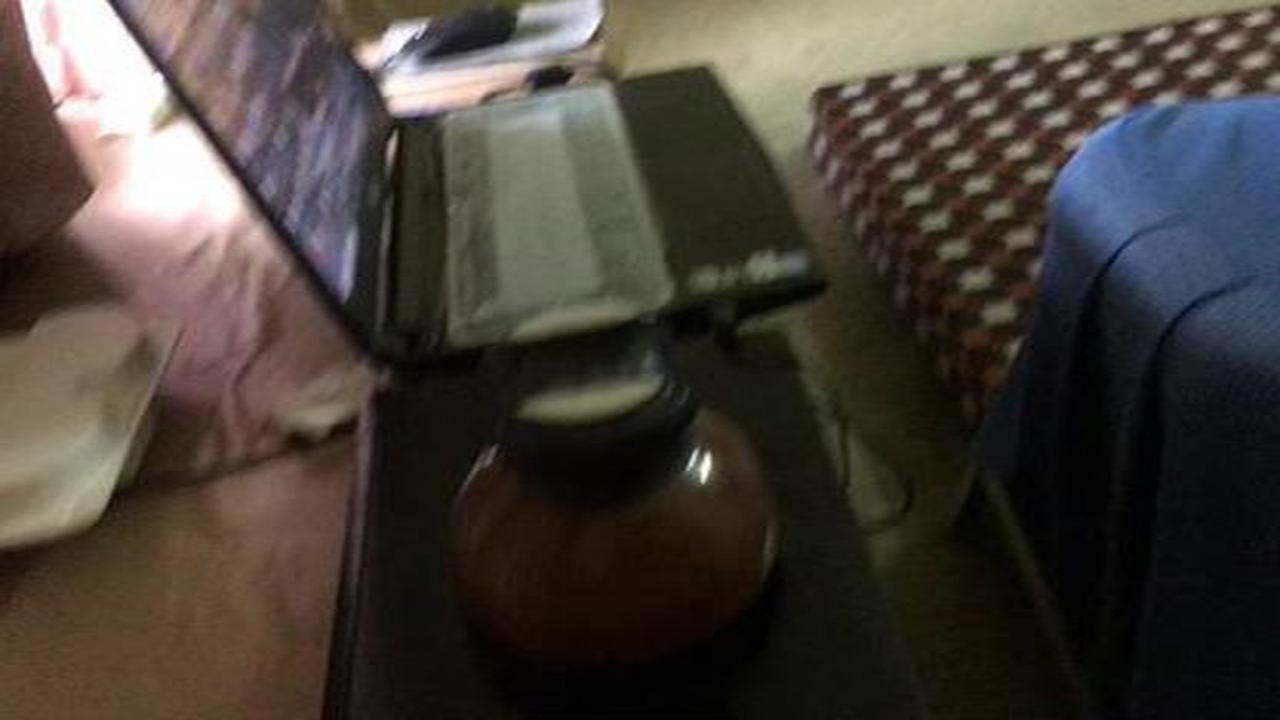insulator_pin: (425, 290, 807, 681)
